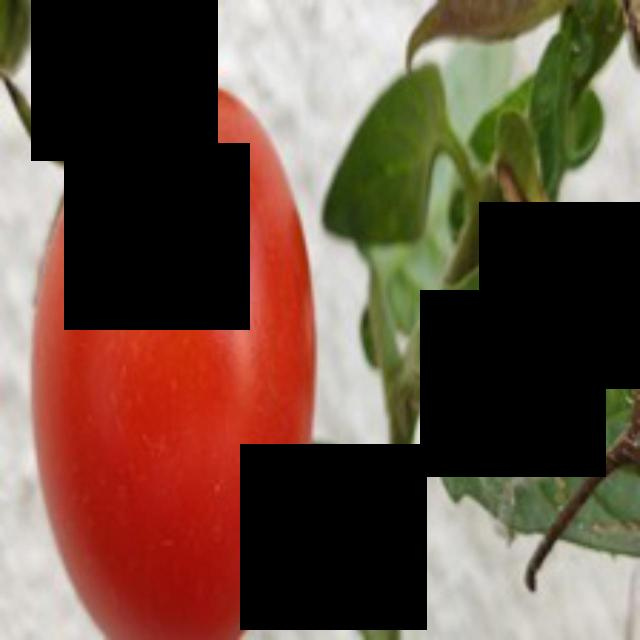tomato: (23, 71, 320, 637)
